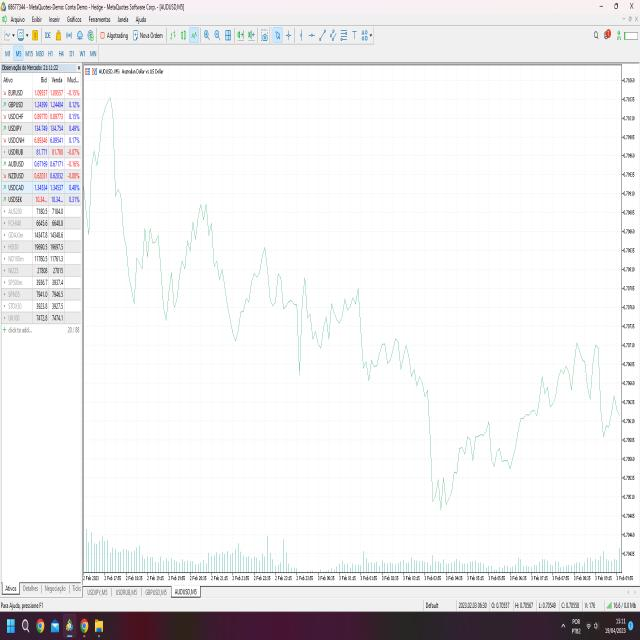bandeira_baixa: (350, 274, 402, 390), (422, 370, 461, 521)
